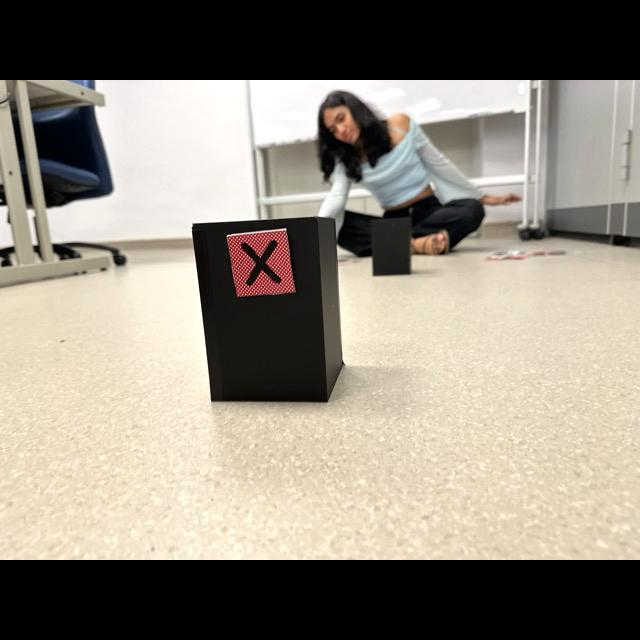X: (241, 240, 282, 285)
